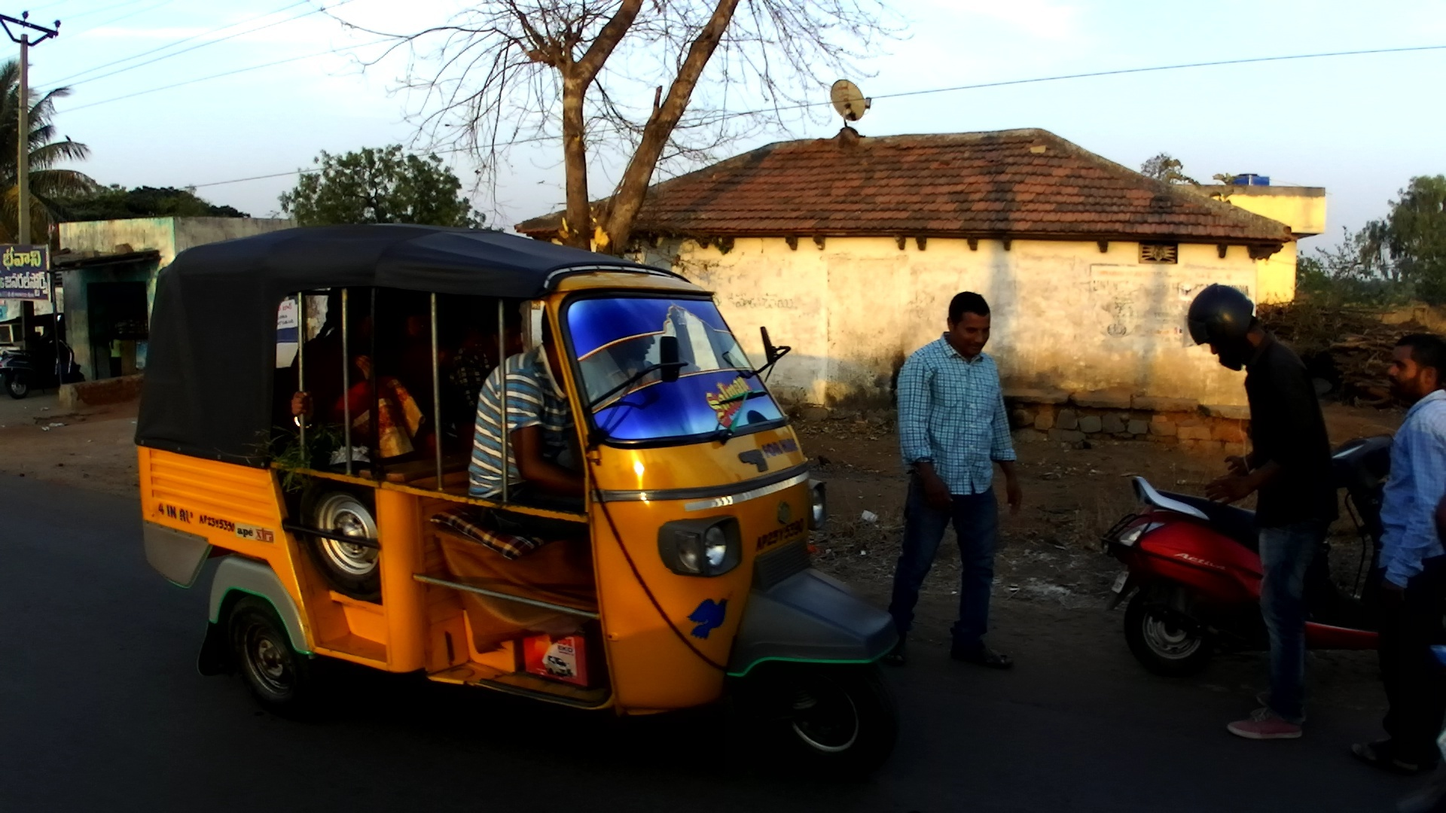autorickshaw: (136, 218, 901, 785)
motorcycle: (1103, 426, 1446, 684), (1, 314, 87, 403)
person: (1183, 282, 1329, 748), (893, 290, 1029, 674), (1356, 330, 1446, 784)
